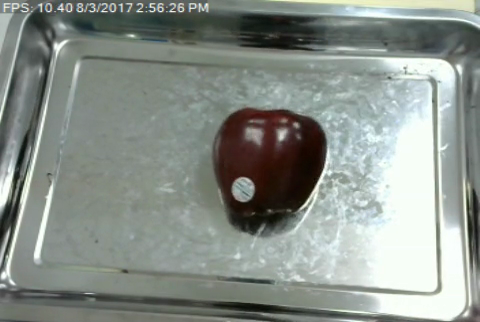Apple: (207, 104, 333, 227)
